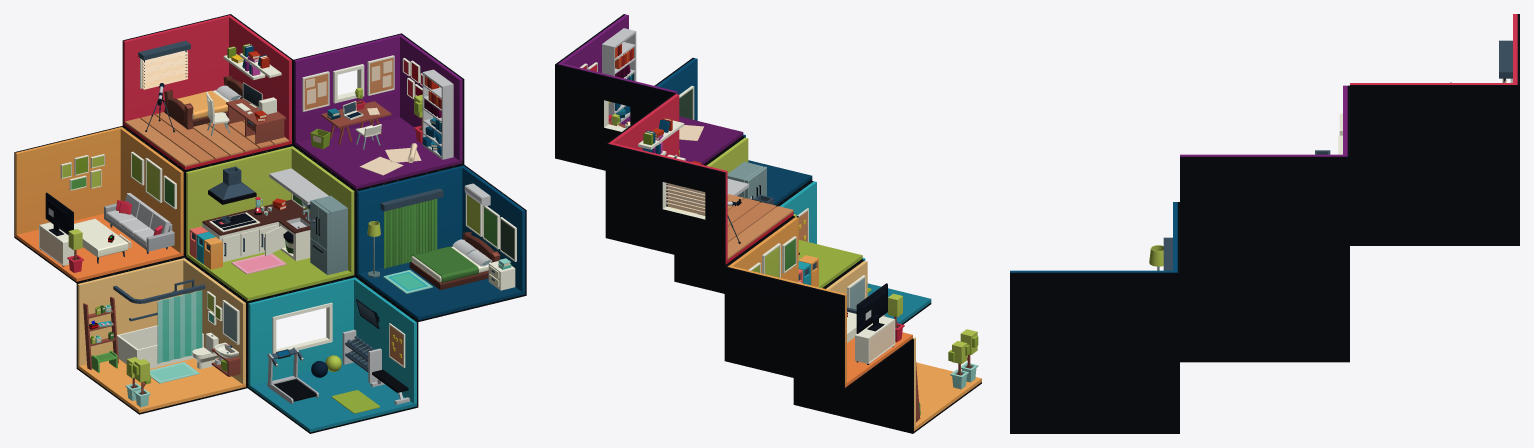
Rendered from smartcity.gltf.
The picture shows the model from 3 angles, left to right: view 1: azimuth 30°, elevation 25°; view 2: azimuth 150°, elevation 25°; view 3: azimuth 270°, elevation 25°; orthographic projection. The views are drawn at different scales.
Visible parts, largest first — view 1: Walls (×4), Walls2 (×2), Walls1, Curtain, Fridge, Counter, Bed, BookShelf, Top (×3), Matress, Tub, Carpet (×2) (+28 smaller); view 2: Walls (×4), Walls2 (×2), Walls1, BookShelf, Dresser, TV, Wood_Plank7, Fridge, Wood_Plank1, Picture8, Mirror, Picture3 (+2 smaller); view 3: Walls (×4), Walls2 (×2), Walls1, Top.
Part boxes in pixels (bbox=[...]): Walls (×4): bbox=[14, 126, 526, 414]; Walls2 (×2): bbox=[122, 14, 464, 190]; Walls1: bbox=[247, 276, 418, 433]; Curtain: bbox=[157, 290, 202, 363]; Fridge: bbox=[310, 195, 347, 275]; Counter: bbox=[202, 199, 310, 262]; Bed: bbox=[164, 75, 242, 129]; BookShelf: bbox=[422, 69, 453, 159]; Top (×3): bbox=[138, 40, 391, 128]; Matress: bbox=[411, 246, 488, 282]; Tub: bbox=[117, 325, 203, 368]; Carpet (×2): bbox=[150, 253, 286, 383]; Walls (×4): bbox=[654, 57, 981, 433]; Walls2 (×2): bbox=[555, 14, 793, 266]; Walls1: bbox=[777, 181, 931, 324]; BookShelf: bbox=[602, 28, 636, 123]; Dresser: bbox=[855, 316, 895, 364]; TV: bbox=[856, 283, 887, 333]; Wood_Plank7: bbox=[727, 206, 793, 259]; Fridge: bbox=[727, 161, 766, 199]; Wood_Plank1: bbox=[727, 202, 776, 242]; Picture8: bbox=[762, 243, 780, 277]; Mirror: bbox=[847, 275, 865, 309]; Picture3: bbox=[679, 86, 694, 119]; Walls (×4): bbox=[1010, 202, 1519, 389]; Walls2 (×2): bbox=[1180, 14, 1519, 273]; Walls1: bbox=[1010, 389, 1179, 433]; Top: bbox=[1499, 40, 1512, 78].
Size of the model in its own units: 10.95 by 8.25 by 10.95.
1 material, 1 textured.
